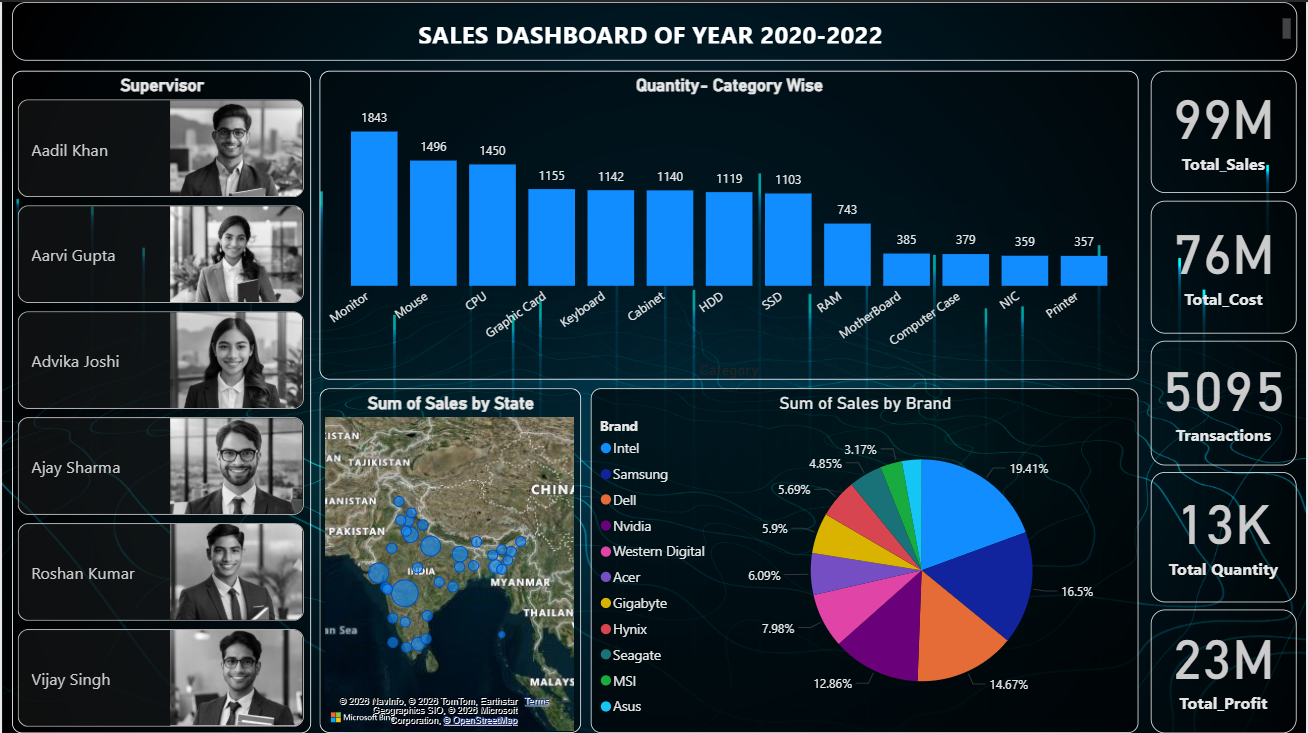

The dashboard page shown, as its layout file describes it:
{"tool":"powerbi","page":{"name":"Page 1","canvas":[1280,720],"ordinal":0},"visuals":[{"type":"textbox","box":[10,0,1261.4,57.2],"z":0},{"type":"card","fields":{"Values":["Sum(Sales_Data.Total_Sales)"]},"box":[1127.6,67.5,143.6,120.2],"z":1000},{"type":"card","fields":{"Values":["Sum(Sales_Data.Total_Cost)"]},"box":[1127.6,194.8,143.6,130.1],"z":2000},{"type":"card","fields":{"Values":["Sum(Sales_Data.Quantity)"]},"box":[1127.6,461.7,143.6,127.6],"z":3000},{"type":"card","fields":{"Values":["CountNonNull(Sales_Data.Order_Number)"]},"box":[1127.6,331.9,143.6,122.7],"z":4000},{"type":"card","fields":{"Values":["Sales_Data.Total_Profit"]},"box":[1127.6,596.3,143.6,121.5],"z":5000},{"type":"clusteredColumnChart","title":"Quantity- Category Wise","fields":{"Y":["Sum(Sales_Data.Quantity)"],"Category":["Sales_Data.Category"]},"box":[311.7,67.5,803.7,303.1],"z":6000},{"type":"pieChart","fields":{"Y":["Sum(Sales_Data.Sales)"],"Category":["Sales_Data.Brand"]},"box":[577.9,379.1,537.4,338.7],"z":7000},{"type":"map","fields":{"Category":["State_list.State"],"Size":["Sum(Sales_Data.Sales)"]},"box":[311.7,379.1,256.4,338.7],"z":8000},{"type":"advancedSlicerVisual","fields":{"Values":["Supervisor.Supervisor"]},"box":[9.8,67.5,293.3,650.3],"z":8001}]}

Visuals, with their boxes in screenshot pixels (x1, y1, x2, y2), scaled from the page's 1280x720 canvas onto the 1308x733 screenshot:
textbox: crop(10, 0, 1299, 58)
card - Sum(Sales_Data.Total_Sales): crop(1152, 69, 1299, 191)
card - Sum(Sales_Data.Total_Cost): crop(1152, 198, 1299, 331)
card - Sum(Sales_Data.Quantity): crop(1152, 470, 1299, 600)
card - CountNonNull(Sales_Data.Order_Number): crop(1152, 338, 1299, 463)
card - Sales_Data.Total_Profit: crop(1152, 607, 1299, 731)
"Quantity- Category Wise" clusteredColumnChart: crop(319, 69, 1140, 377)
pieChart - Sum(Sales_Data.Sales) x Sales_Data.Brand: crop(591, 386, 1140, 731)
map - State_list.State x Sum(Sales_Data.Sales): crop(319, 386, 581, 731)
advancedSlicerVisual - Supervisor.Supervisor: crop(10, 69, 310, 731)
